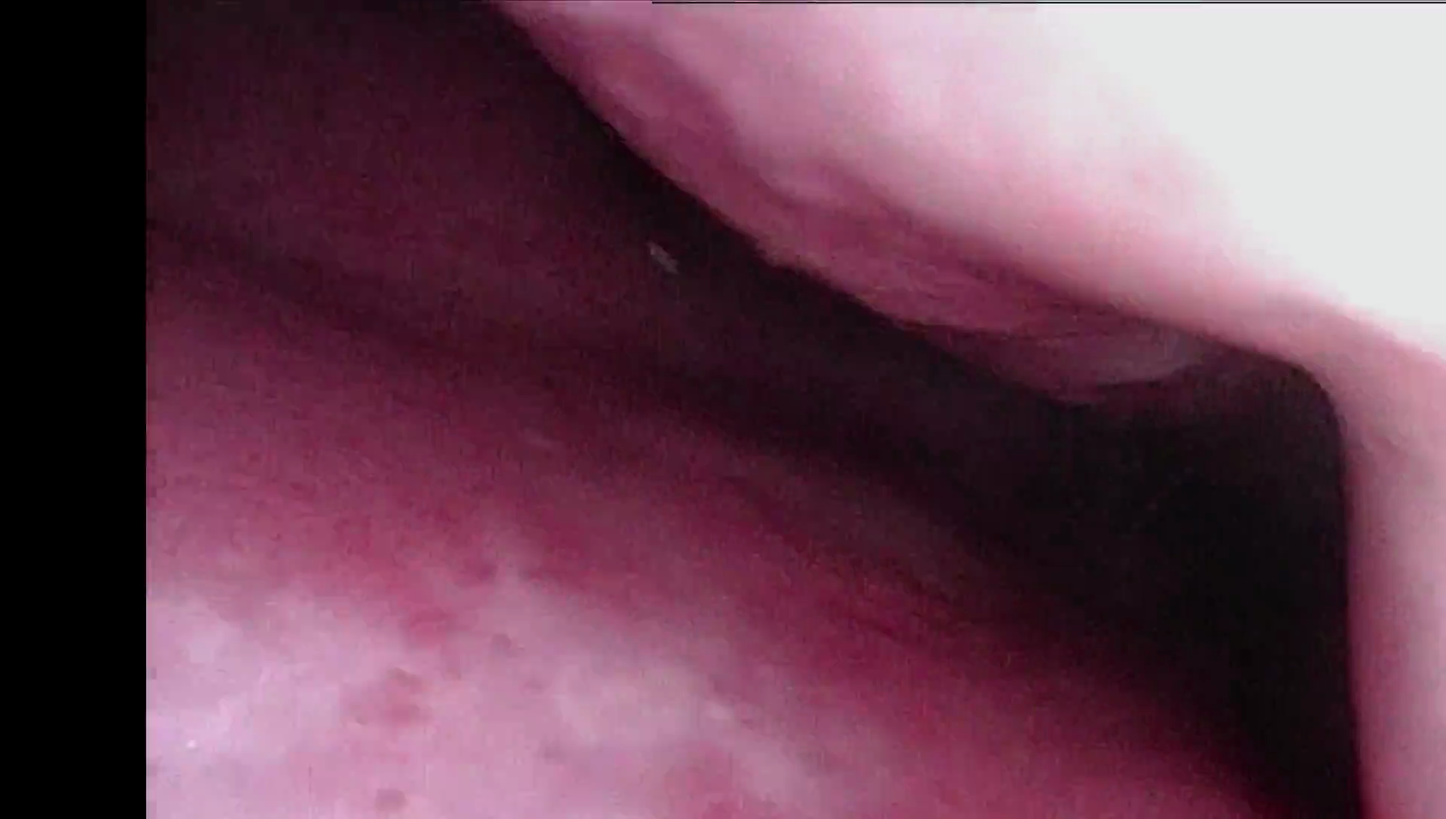close_wall: (892, 0, 1446, 325)
next: (1008, 352, 1396, 819)
